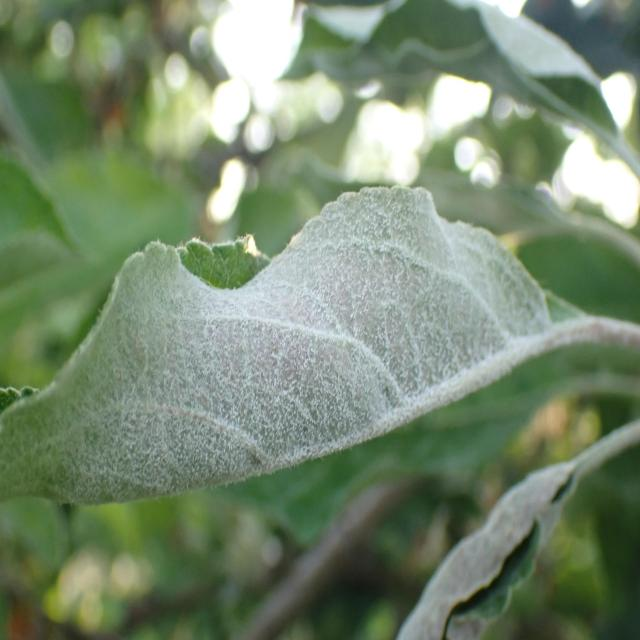Powdery_mildew: (0, 169, 640, 509), (311, 418, 640, 640), (273, 0, 640, 167)
